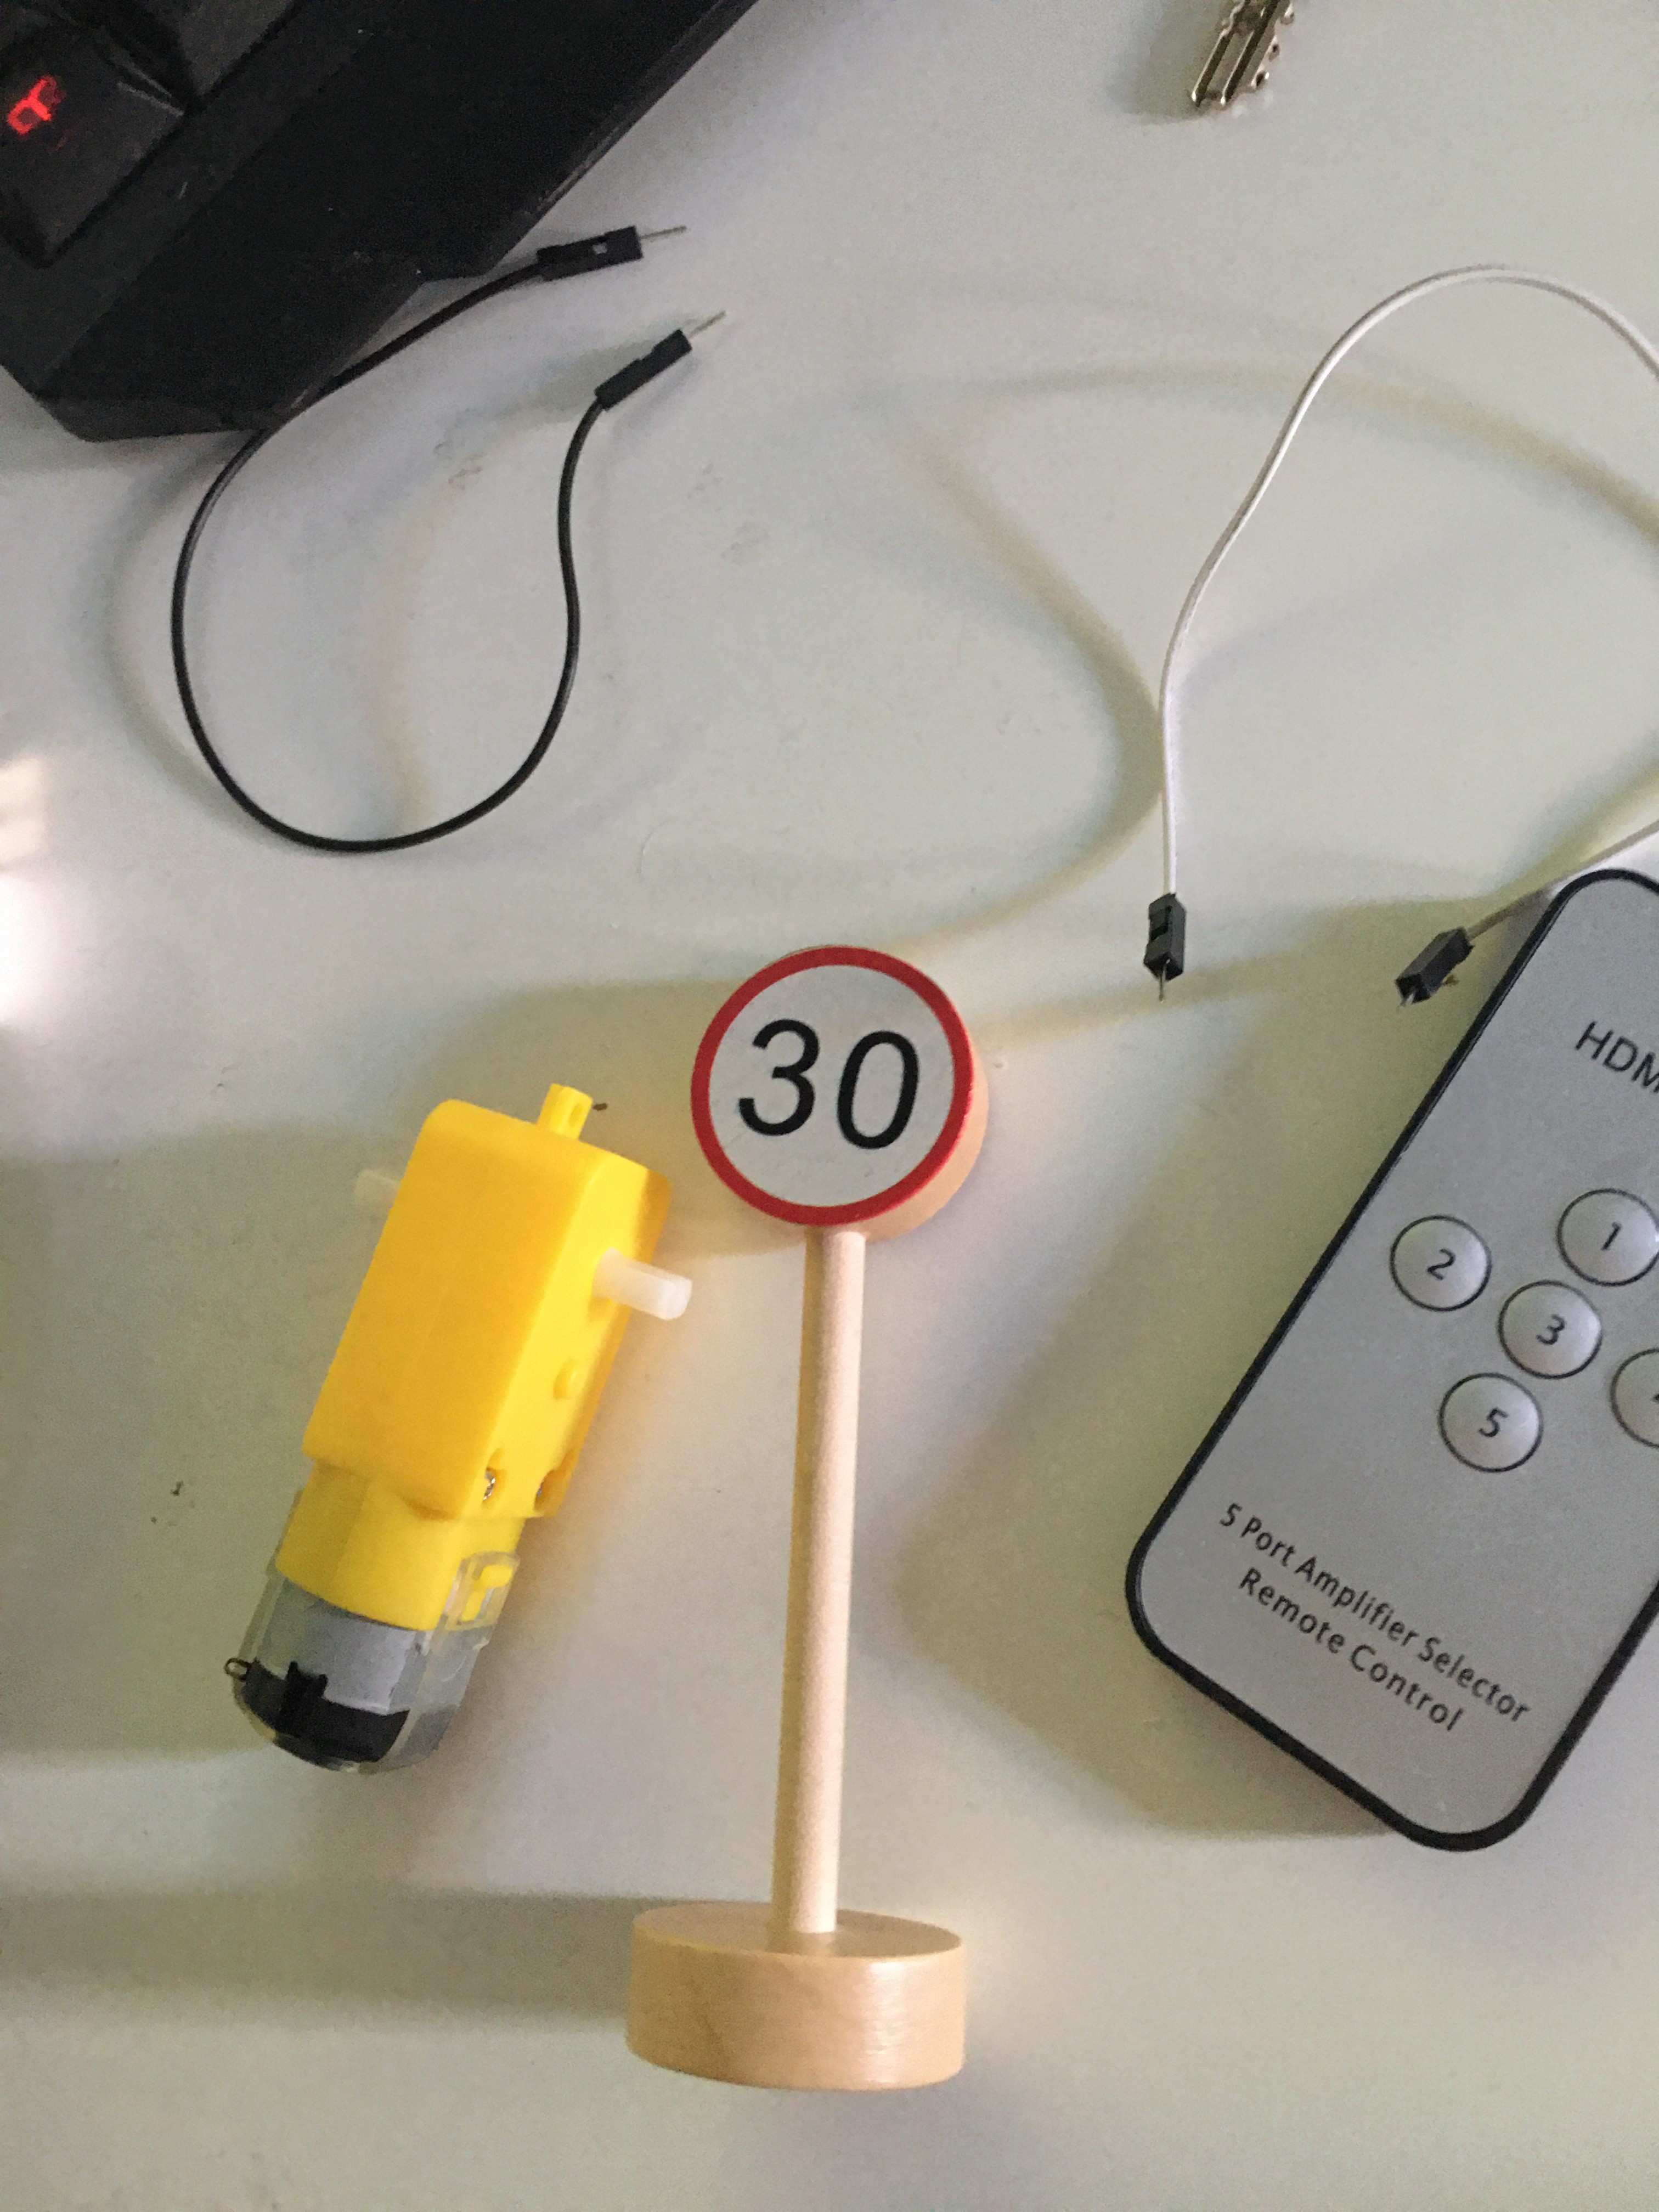Traffic_Sign_30: (690, 949, 972, 1217)
